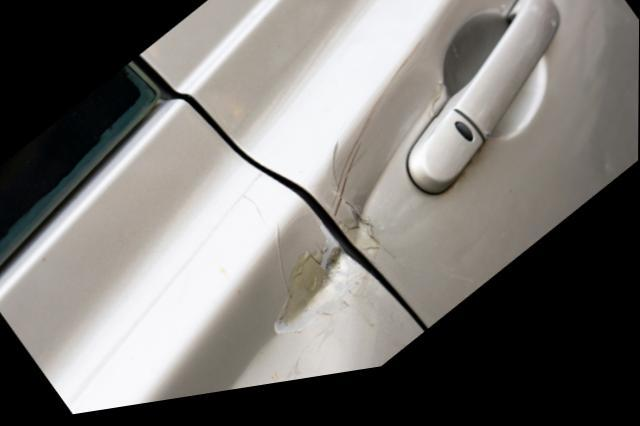dent: (200, 216, 375, 399), (332, 81, 502, 266), (489, 0, 590, 29)
